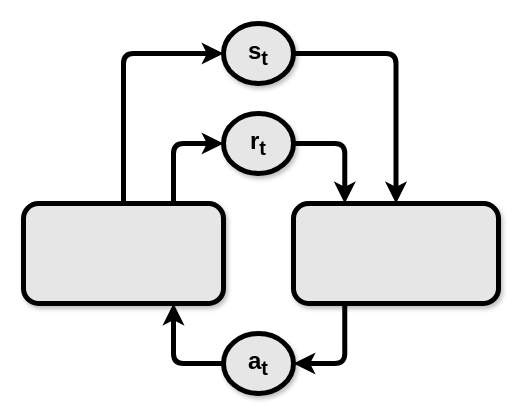
This 524x420 diagram has some shape labels left out. The centre of each missing label's shape, as x and y in pixels:
"Agent" goes at (x=396, y=254).
"Environment" goes at (x=124, y=254).
